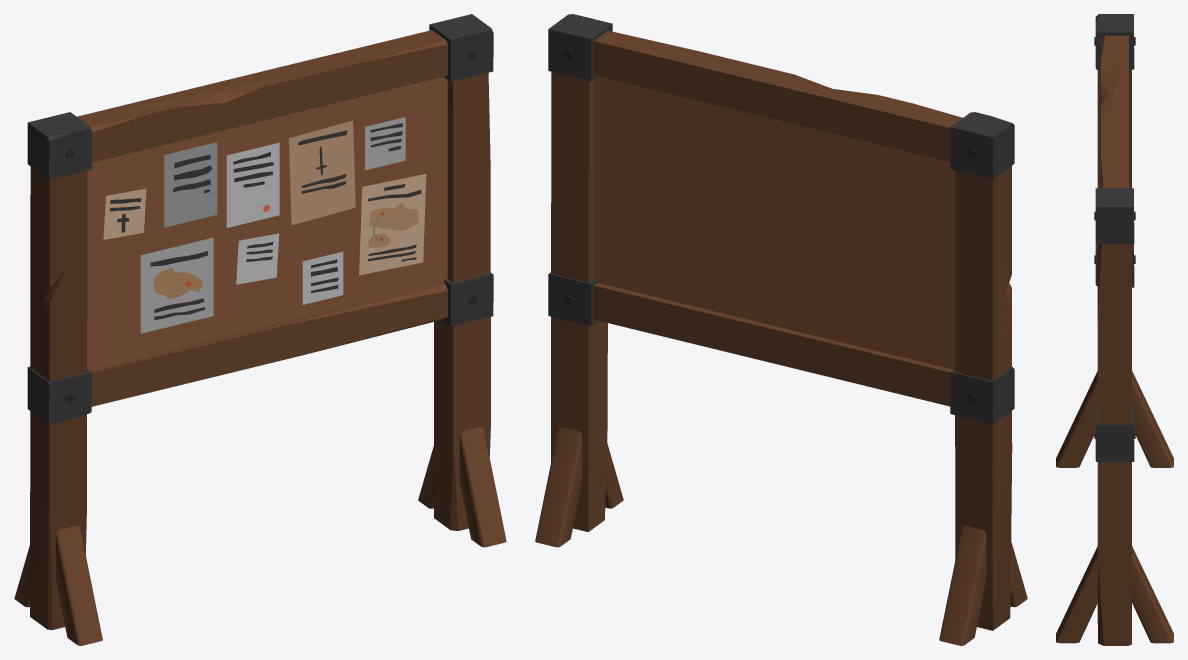
Rendered from NoticeBoard_01.glb.
3 renders of one model, left to right at view 1: azimuth 30°, elevation 25°; view 2: azimuth 150°, elevation 25°; view 3: azimuth 270°, elevation 25°, orthographic. The views are drawn at different scales.
Visible parts, largest first — view 1: NoticeBoard_01_LOD0; view 2: NoticeBoard_01_LOD0; view 3: NoticeBoard_01_LOD0.
Part boxes in pixels (x1,y1,x2,y2): NoticeBoard_01_LOD0: [14, 14, 506, 645]; NoticeBoard_01_LOD0: [535, 14, 1027, 645]; NoticeBoard_01_LOD0: [1056, 14, 1173, 645].
Size of what is drawn, in the model's own units: 1.77 by 1.88 by 0.4565.
Materials: 1 (1 with a texture image).
